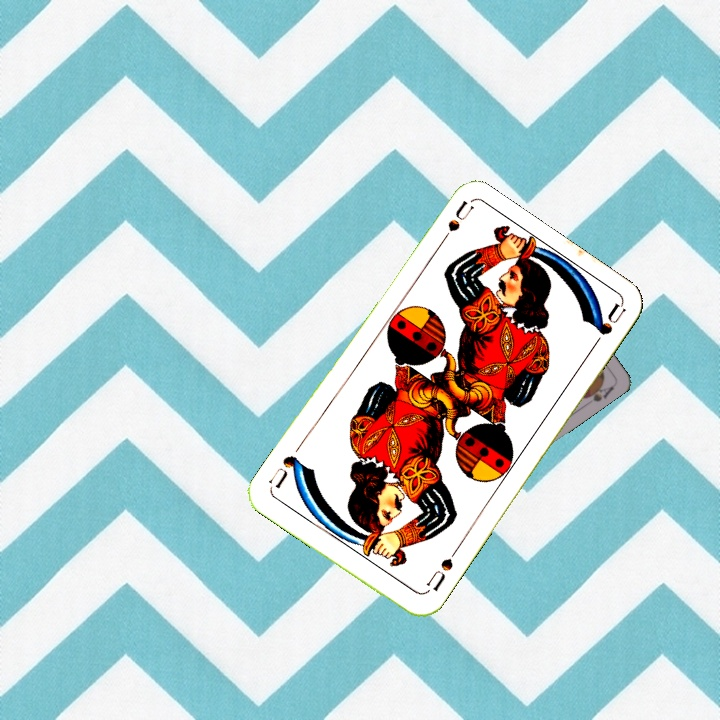SU: (432, 198, 476, 252), (421, 544, 461, 596)
